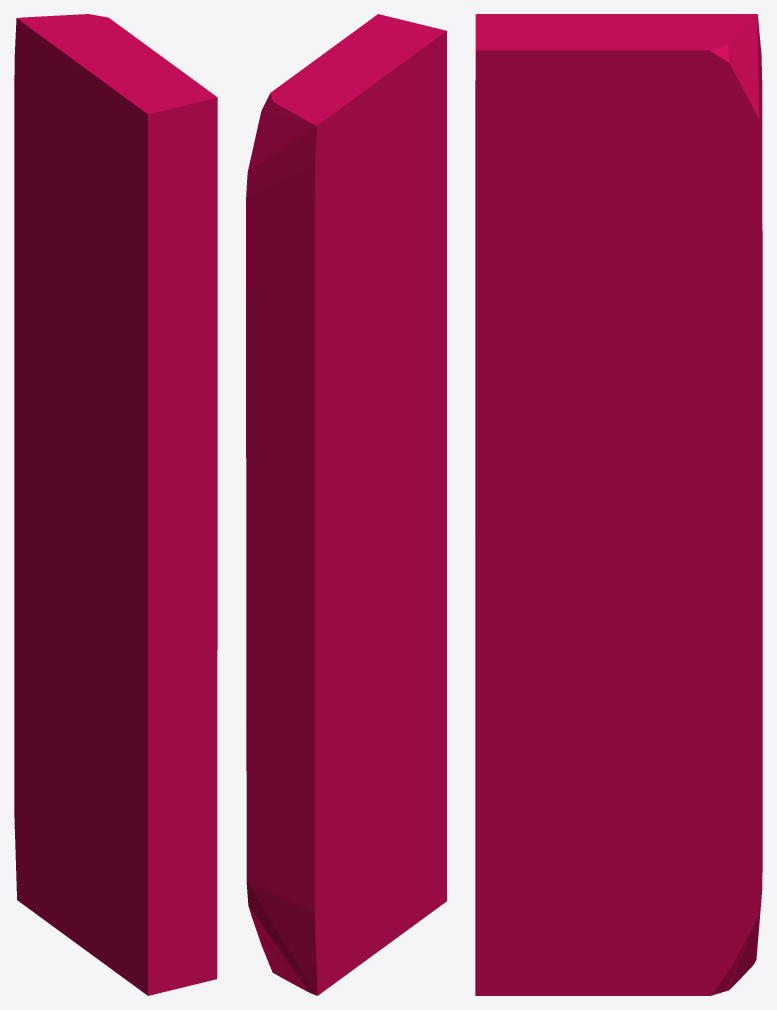
3 renders of one model, left to right at view 1: azimuth 30°, elevation 25°; view 2: azimuth 150°, elevation 25°; view 3: azimuth 270°, elevation 25°, orthographic. The views are drawn at different scales.
Bounding box in the file's own units: 1.15 × 13.91 × 3.83.
